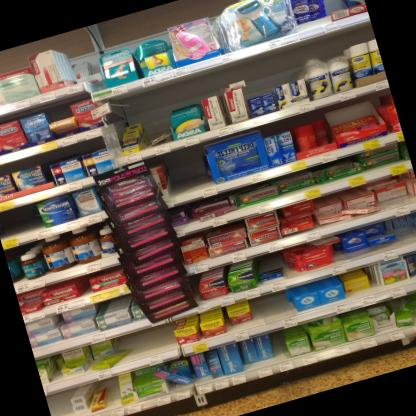empty_space: (162, 151, 211, 200), (128, 325, 175, 363), (0, 207, 37, 242), (258, 291, 293, 327), (46, 395, 66, 416)
